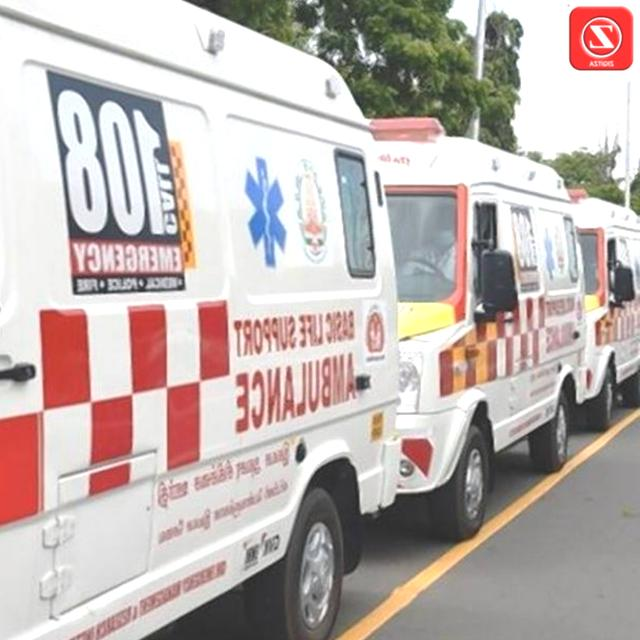ambulance: (0, 33, 400, 622), (361, 103, 576, 537), (567, 179, 640, 426)
